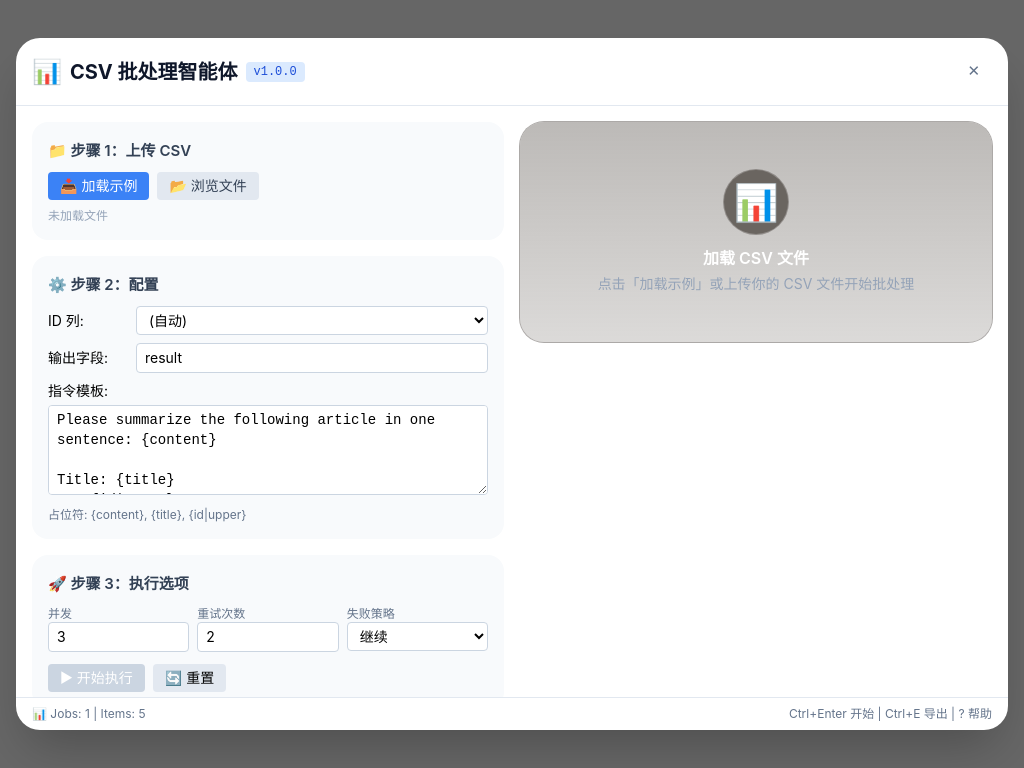
Test: CsvBatchPanel › 重置清空状态
The width and height of the screenshot is (1024, 768).
Click the button with test id "load-sample-btn".
click(99, 186)  # box [48,172,149,200]
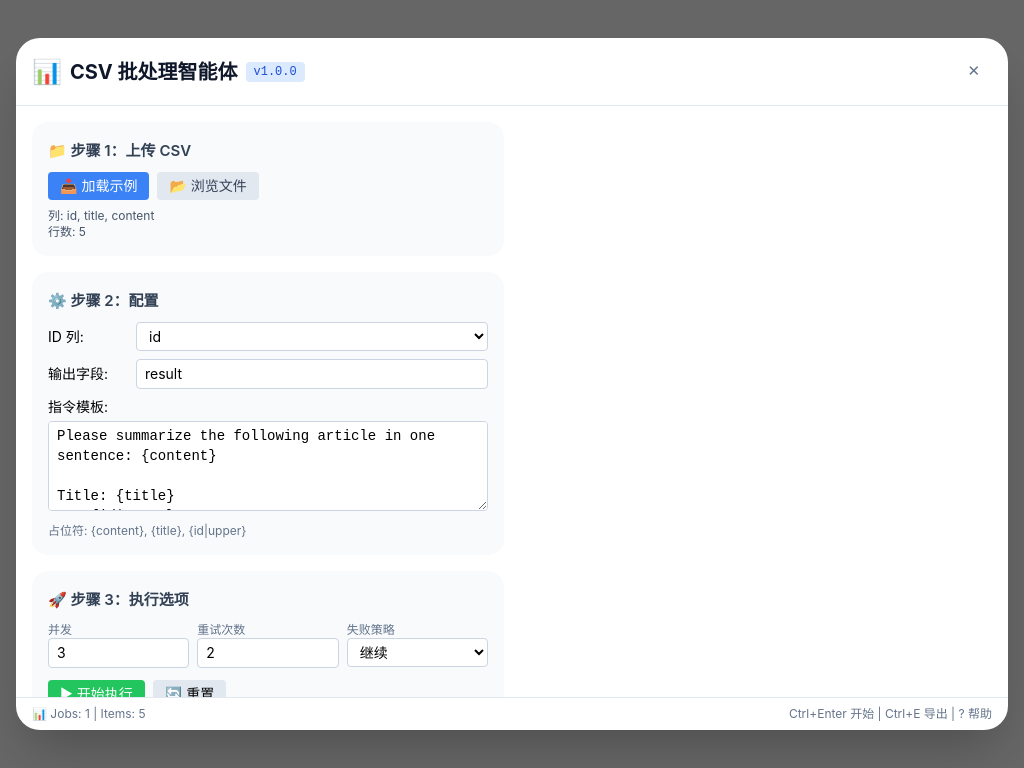
Expected: the text "行数: 5" is shown, [48,224,86,239]
Click the button "🔄 重置".
click(190, 694)  # box [153,680,226,708]
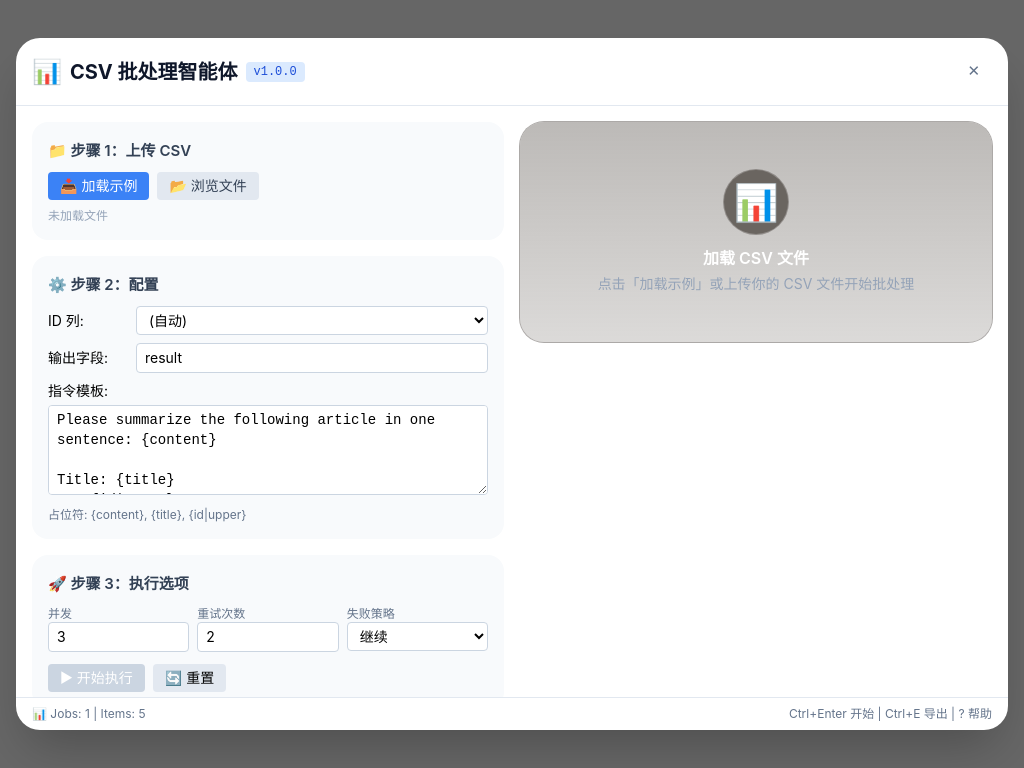
Expected: the button with test id "start-btn" is disabled, [48,664,145,692]
